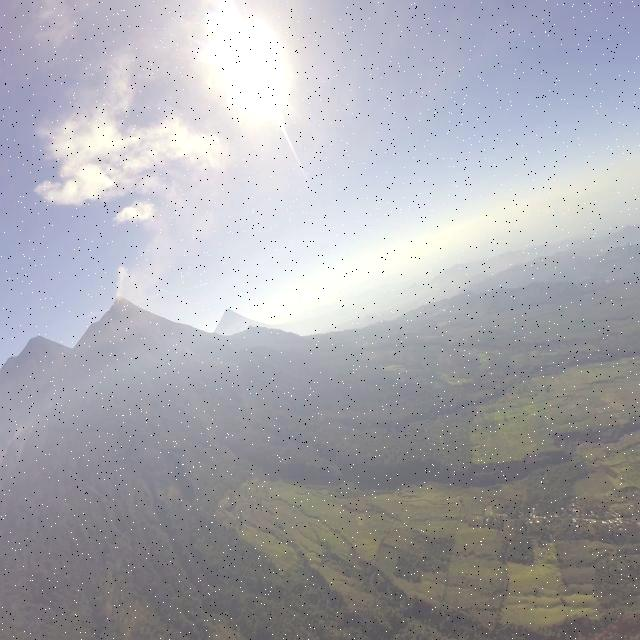Plume: (116, 197, 159, 227), (116, 262, 131, 296)
Summit: (102, 294, 142, 314)
